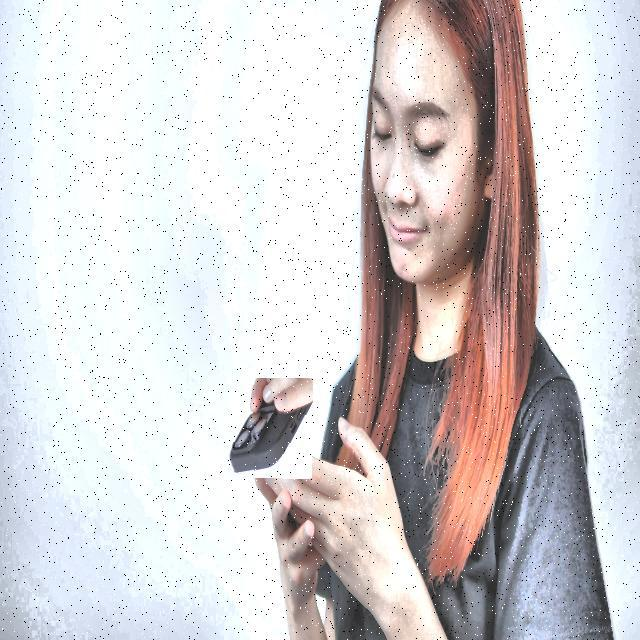Phone: (226, 378, 313, 479)
